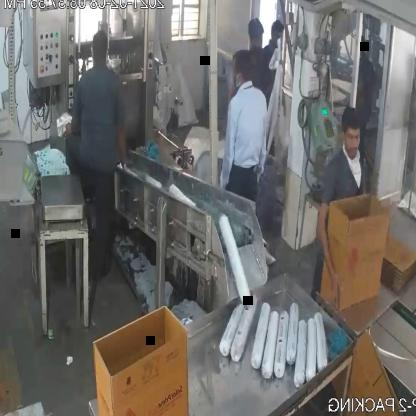no_glove: (315, 188, 346, 296)
